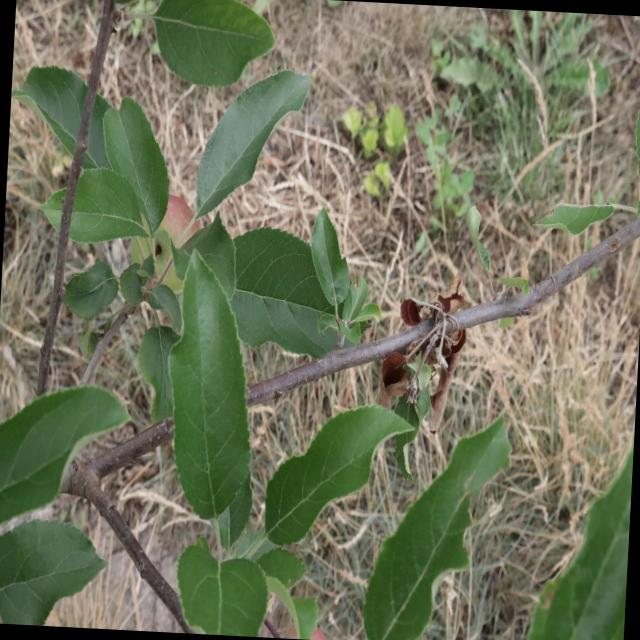-FireBlight-: (380, 289, 473, 436)
